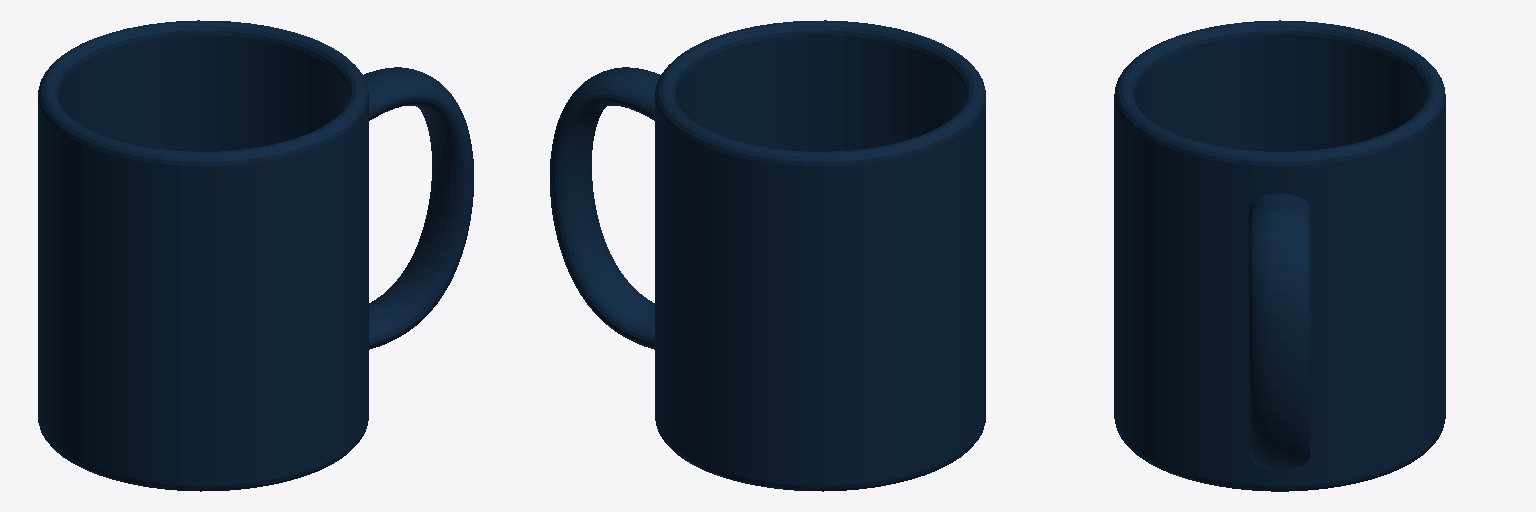
The robot description file, URDF, robot "red_box":
<?xml version="1.0"?>
<robot name="red_box">

    <link name="base_link">
        <inertial>
            <origin xyz="0.0046172673676522225 -3.603241376382016e-09 0.04197159981579755"
                rpy="0 0 0" />
            <mass value="0.4222124006792332" />
            <inertia ixx="0.000568" iyy="0.000678" izz="0.000635" ixy="0.0" iyz="0.0" ixz="-1.2e-05" />
        </inertial>
        <visual>
            <origin xyz="0 0 0" rpy="0 0 0" />
            <geometry>
                <mesh filename="package://lara_description/meshes/parts/mug.stl"
                    scale="0.001 0.001 0.001" />
            </geometry>
            <material name="red">
                <color rgba=".1 .2 .3 1.0" />
            </material>
        </visual>
        <collision>
            <origin xyz="0 0 0" rpy="0 0 0" />
            <geometry>
                <mesh filename="package://lara_description/meshes/parts/mug.stl"
                    scale="0.001 0.001 0.001" />
            </geometry>
        </collision>
    </link>

    <gazebo reference="base_link">
        <material>Gazebo/Blue</material>
        <kp>1000000.0</kp>
        <kd>1.0</kd>
        <mu1>1.16</mu1>
        <mu2>1.16</mu2>
        <maxVel>0.0</maxVel>
        <minDepth>0.003</minDepth>
    </gazebo>


</robot>

--- Facts derived from the render (not from the file) ---
The picture shows the robot from 3 angles, left to right: view 1: azimuth 30°, elevation 25°; view 2: azimuth 150°, elevation 25°; view 3: azimuth 270°, elevation 25°; orthographic projection.
Robot: red_box — 1 links, 0 joints (none); root link base_link; default pose: all joints at 0.
Links seen in each view (by area): view 1: base_link; view 2: base_link; view 3: base_link.
Link boxes in pixels (left/top/right/bottom): base_link: left=38, top=20, right=473, bottom=491; base_link: left=550, top=20, right=985, bottom=491; base_link: left=1114, top=20, right=1445, bottom=491.
Size in the robot's own frame: 0.1136 by 0.08 by 0.0899 metres.
Meshes: 1 distinct files referenced, 1 mesh visuals loaded (1 binary STL).
